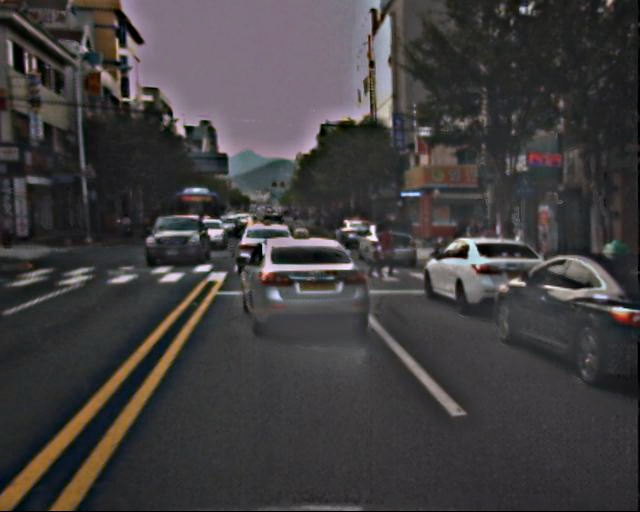person: (374, 224, 397, 280), (470, 219, 488, 263), (366, 242, 382, 280)
